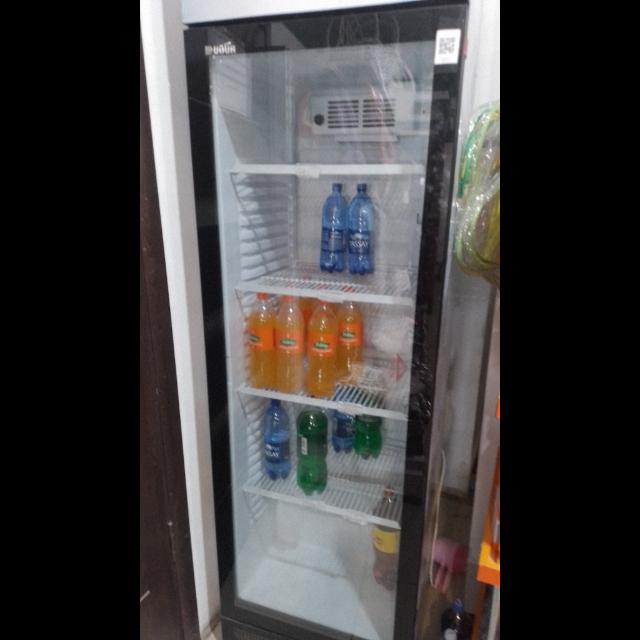Cooling-Display: (180, 1, 470, 640)
